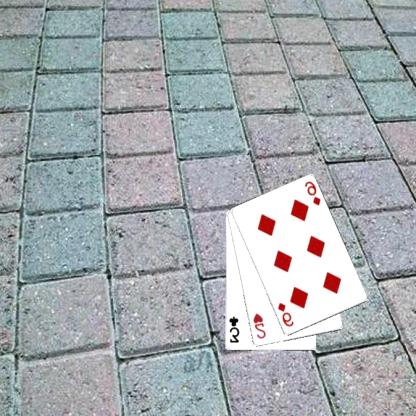2H: (252, 311, 268, 340)
3C: (228, 314, 242, 344)
6D: (276, 300, 297, 328), (304, 179, 324, 207)
